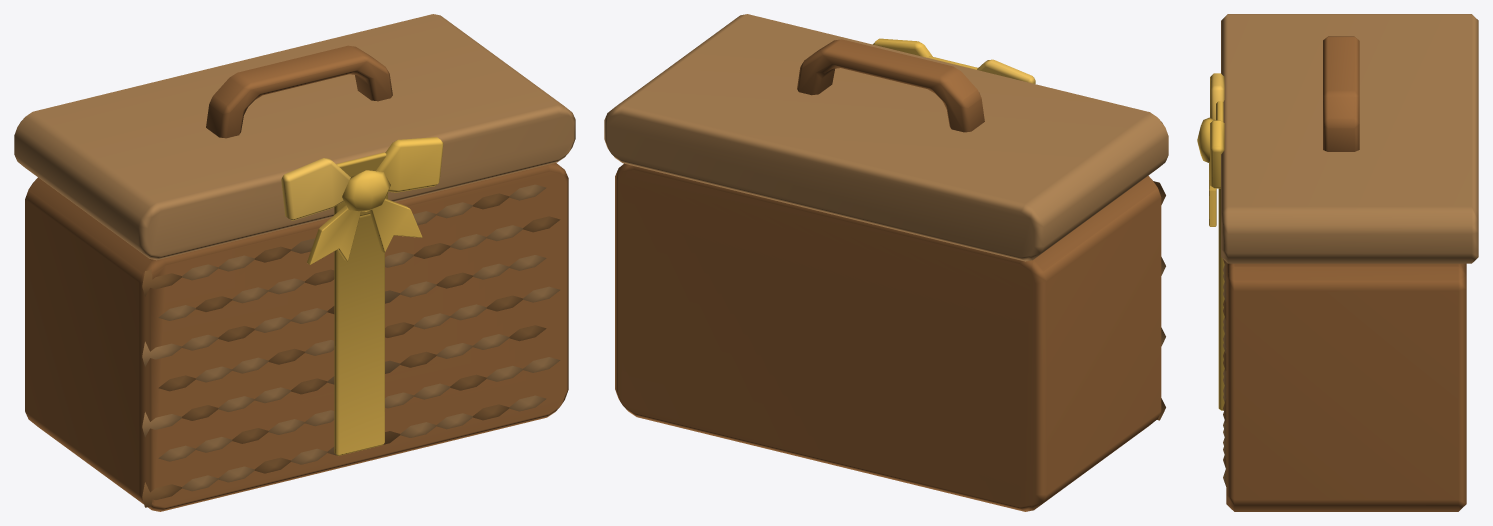
The model's file is snack_hamper.glb.
The picture shows the model from 3 angles, left to right: view 1: azimuth 30°, elevation 25°; view 2: azimuth 150°, elevation 25°; view 3: azimuth 270°, elevation 25°; orthographic projection. The views are drawn at different scales.
Visible parts, largest first — view 1: Willow body, Wicker lid, Folded bow loop; view 2: Willow body, Wicker lid, Folded bow loop; view 3: Wicker lid, Willow body, Folded bow loop.
Boxes of the visible parts, x1=… form: Willow body: x1=25, y1=163, x2=568, y2=511; Wicker lid: x1=14, y1=14, x2=575, y2=260; Folded bow loop: x1=281, y1=137, x2=443, y2=264; Willow body: x1=615, y1=163, x2=1165, y2=511; Wicker lid: x1=604, y1=14, x2=1168, y2=261; Folded bow loop: x1=873, y1=38, x2=1035, y2=83; Wicker lid: x1=1216, y1=14, x2=1478, y2=263; Willow body: x1=1218, y1=188, x2=1466, y2=511; Folded bow loop: x1=1197, y1=73, x2=1224, y2=226.
Size of the model in its own units: 2.85 by 2.25 by 1.62.
